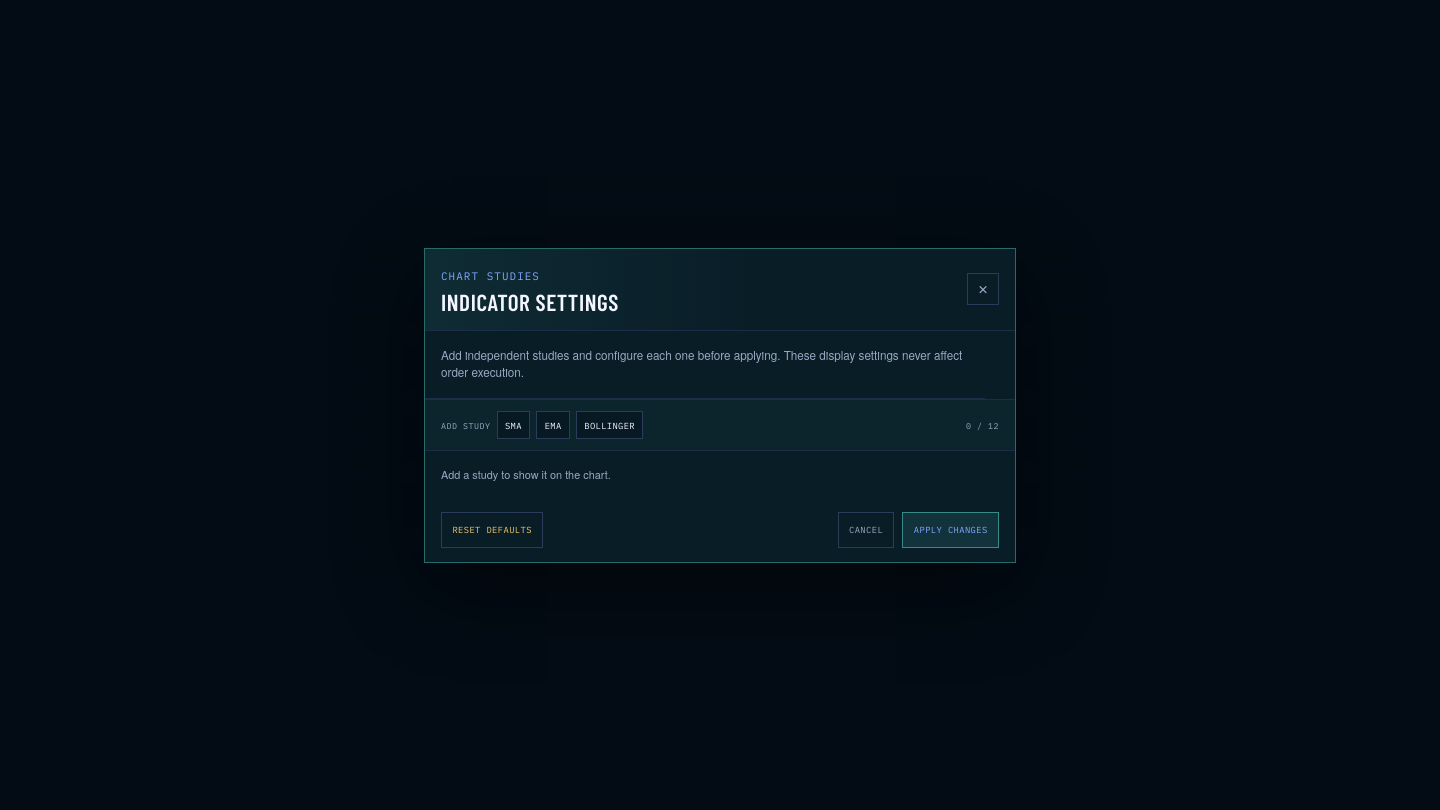
terminal chart indicator settings dialog › does not apply settings outside the allowed Bollinger range
Click the button "Bollinger".
click(610, 425)  # box [576,411,643,439]
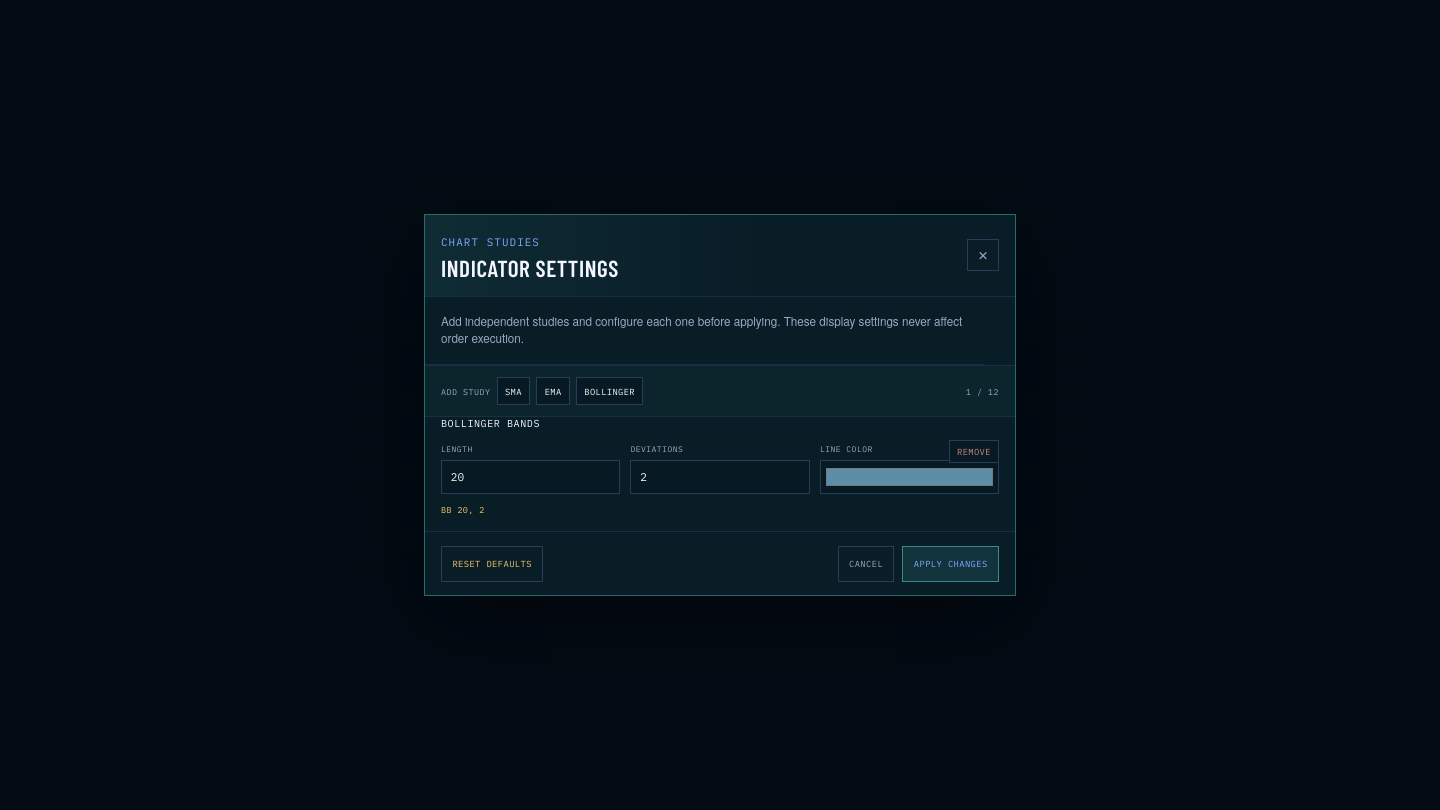
Replace the text in the number field named "Bollinger Bands deviations" with "11" at (720,477), box [630,460,810,494]
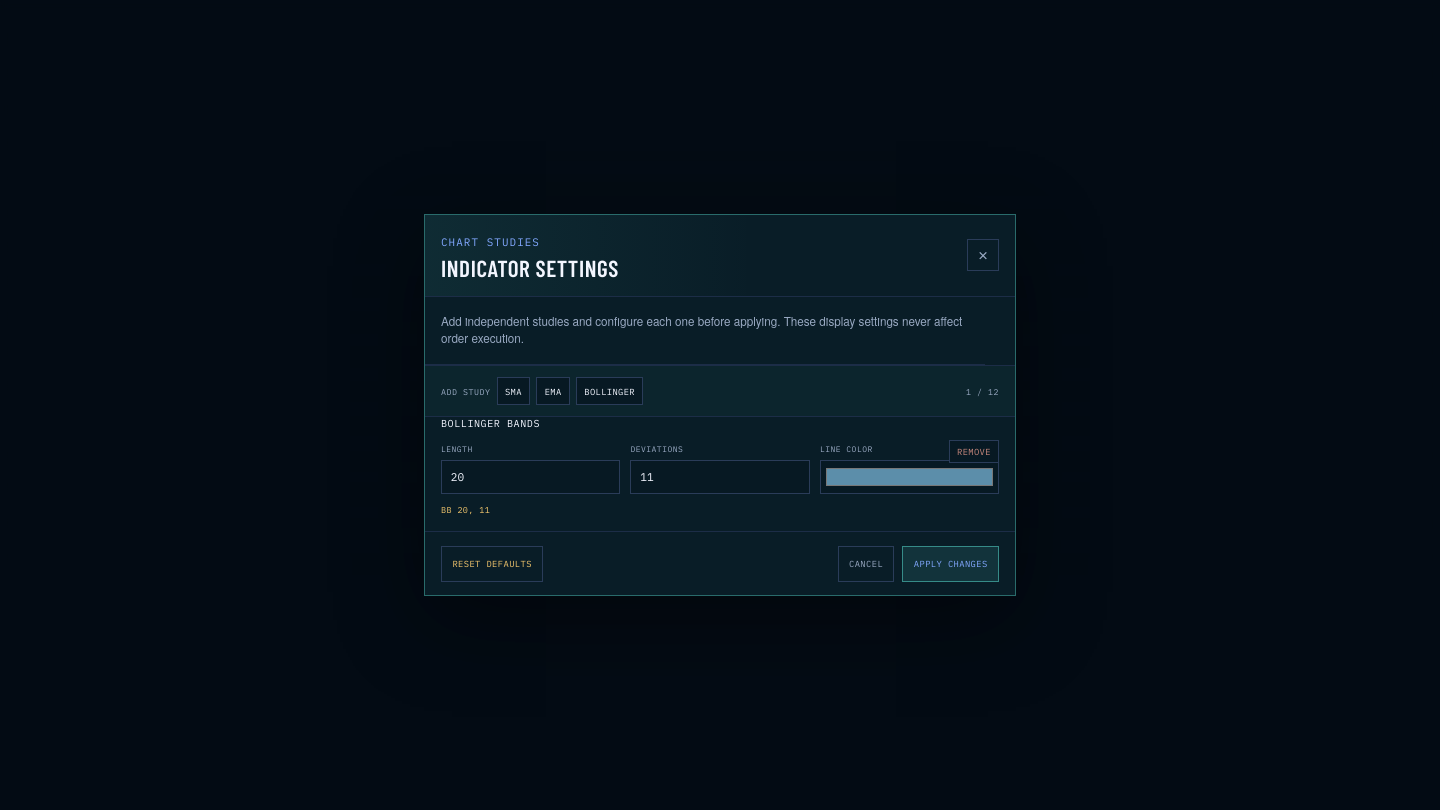
Click the button "Apply changes".
click(951, 564)  # box [902,546,999,582]
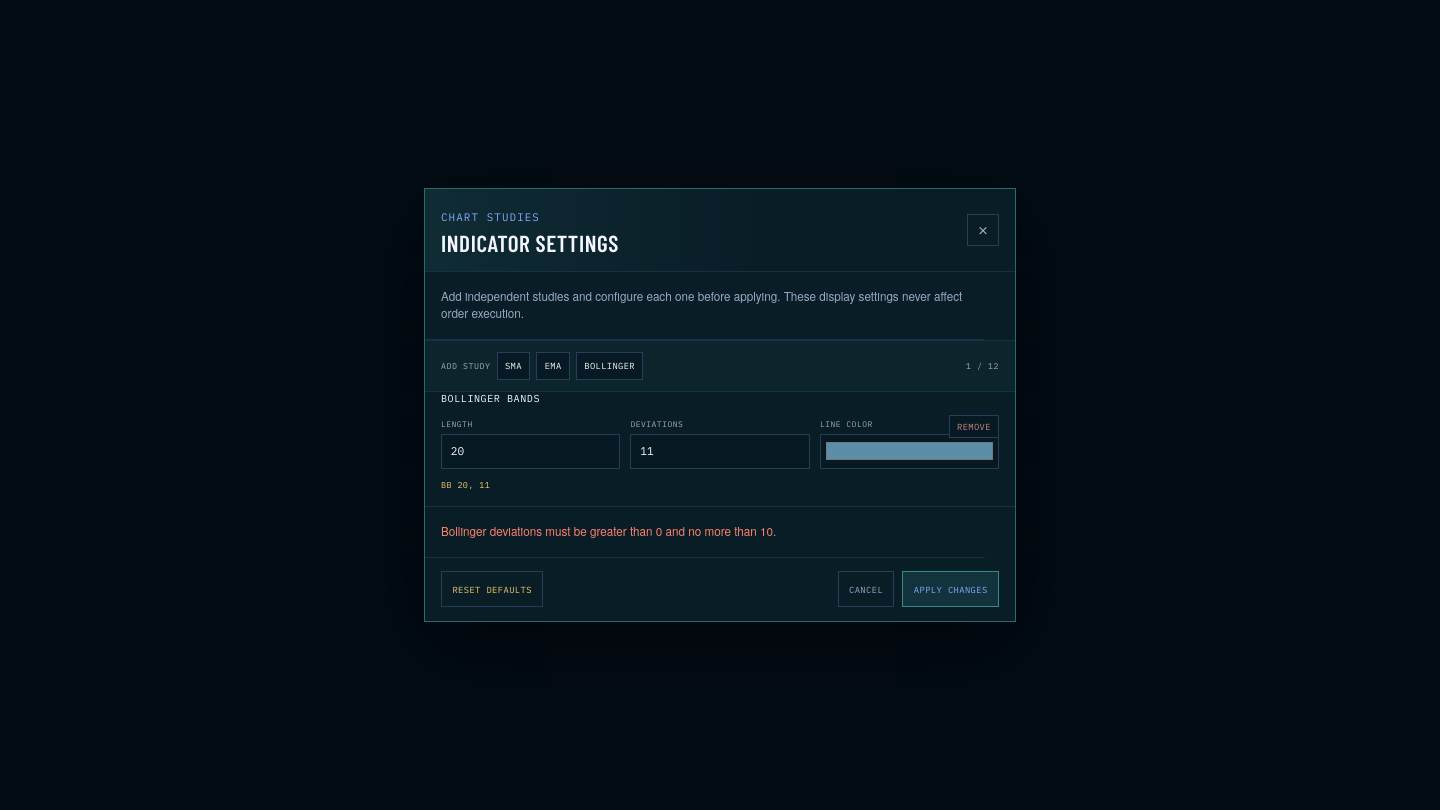
Check: the text "Bollinger deviations must be greater than 0 and no more than 10." is shown, box [425,507,985,558]
